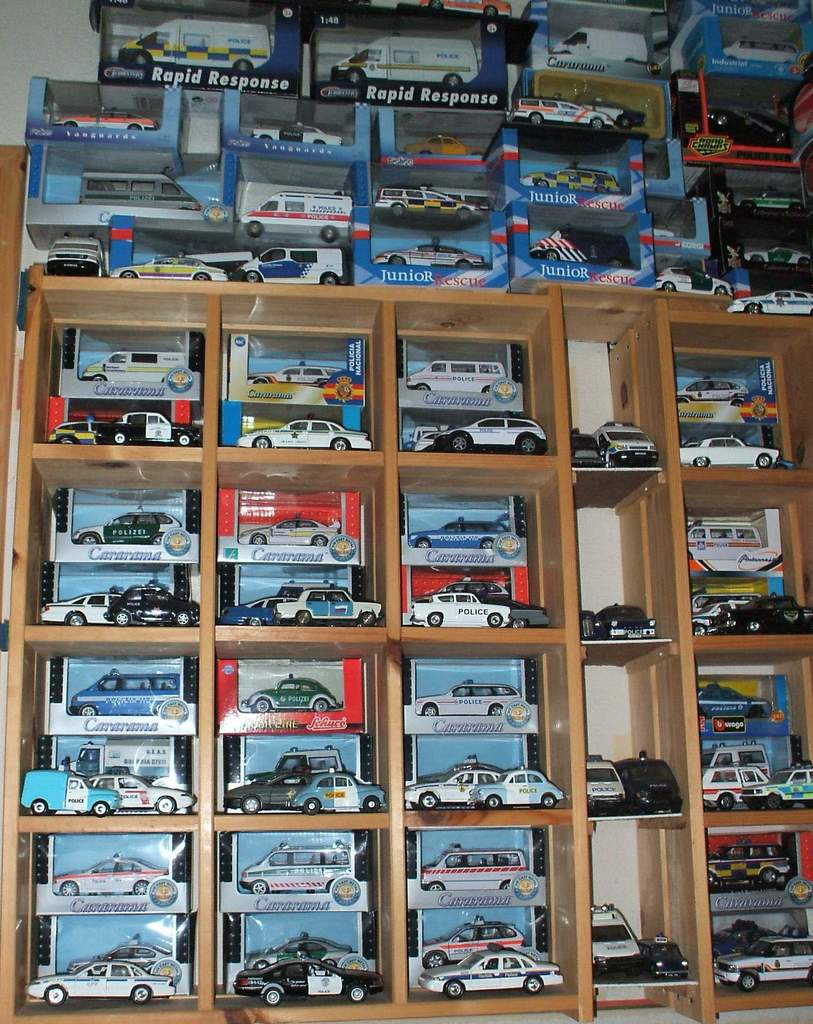Car: (418, 942, 566, 1002), (235, 954, 384, 1008), (23, 960, 174, 1001), (56, 400, 199, 442), (275, 574, 384, 627), (519, 80, 627, 127), (244, 936, 373, 974), (46, 851, 169, 888), (240, 416, 370, 450), (74, 510, 190, 547), (423, 588, 514, 634), (436, 410, 544, 448), (373, 239, 492, 272), (118, 249, 230, 284), (720, 588, 804, 631), (681, 431, 783, 466), (252, 676, 345, 714), (51, 106, 172, 134), (440, 671, 528, 709), (704, 765, 772, 814), (309, 771, 378, 819), (39, 232, 111, 277), (529, 168, 629, 197), (599, 599, 662, 645), (121, 588, 206, 622), (475, 772, 555, 807), (590, 421, 659, 461), (419, 519, 515, 547), (251, 513, 337, 543), (49, 595, 128, 627), (252, 123, 338, 151), (419, 767, 480, 800), (679, 364, 746, 394), (765, 764, 812, 805), (741, 240, 807, 265), (414, 132, 468, 158), (259, 368, 326, 382)
